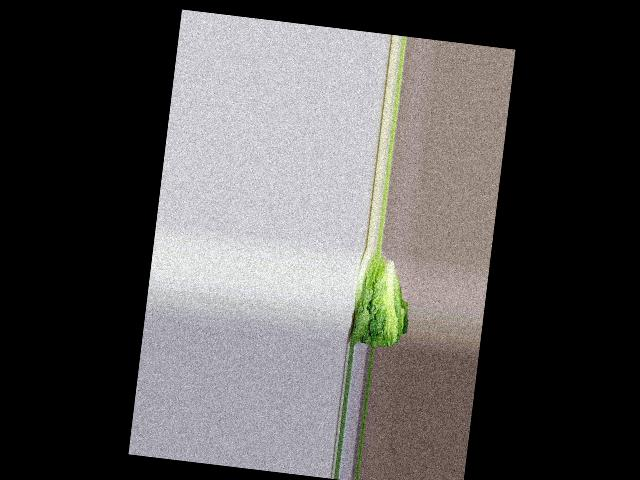lettuce: (346, 251, 409, 350)
